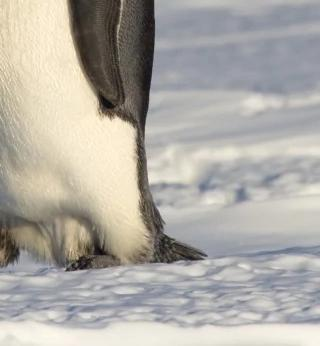Emperor Penguin: (0, 0, 217, 289)
